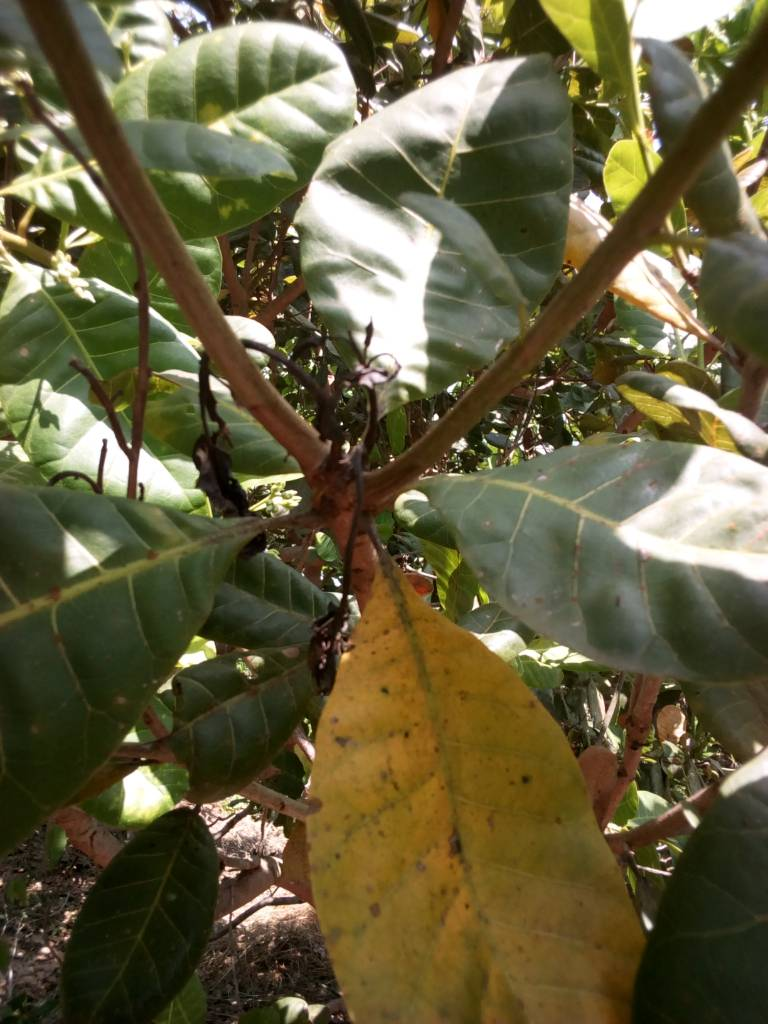Anthracnose: (300, 588, 643, 1024)
